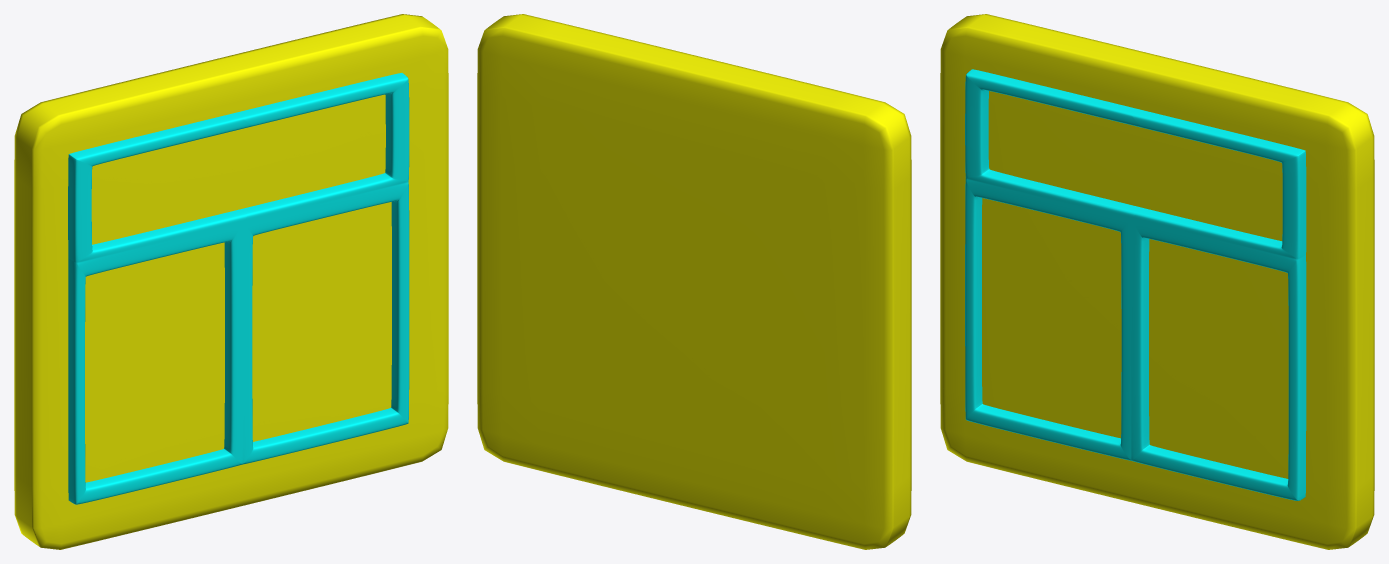
3 views of the same model, side by side, from view 1: azimuth 30°, elevation 25°; view 2: azimuth 150°, elevation 25°; view 3: azimuth 330°, elevation 25° (orthographic).
Visible parts, largest first — view 1: polySurface981; view 2: polySurface981; view 3: polySurface981.
Boxes of the visible parts, box(x1,y1,x2,y2) form: polySurface981: box(14, 14, 448, 549); polySurface981: box(477, 14, 911, 549); polySurface981: box(940, 14, 1374, 549).
Size of the model in its own units: 0.9994 by 0.9994 by 0.1286.
